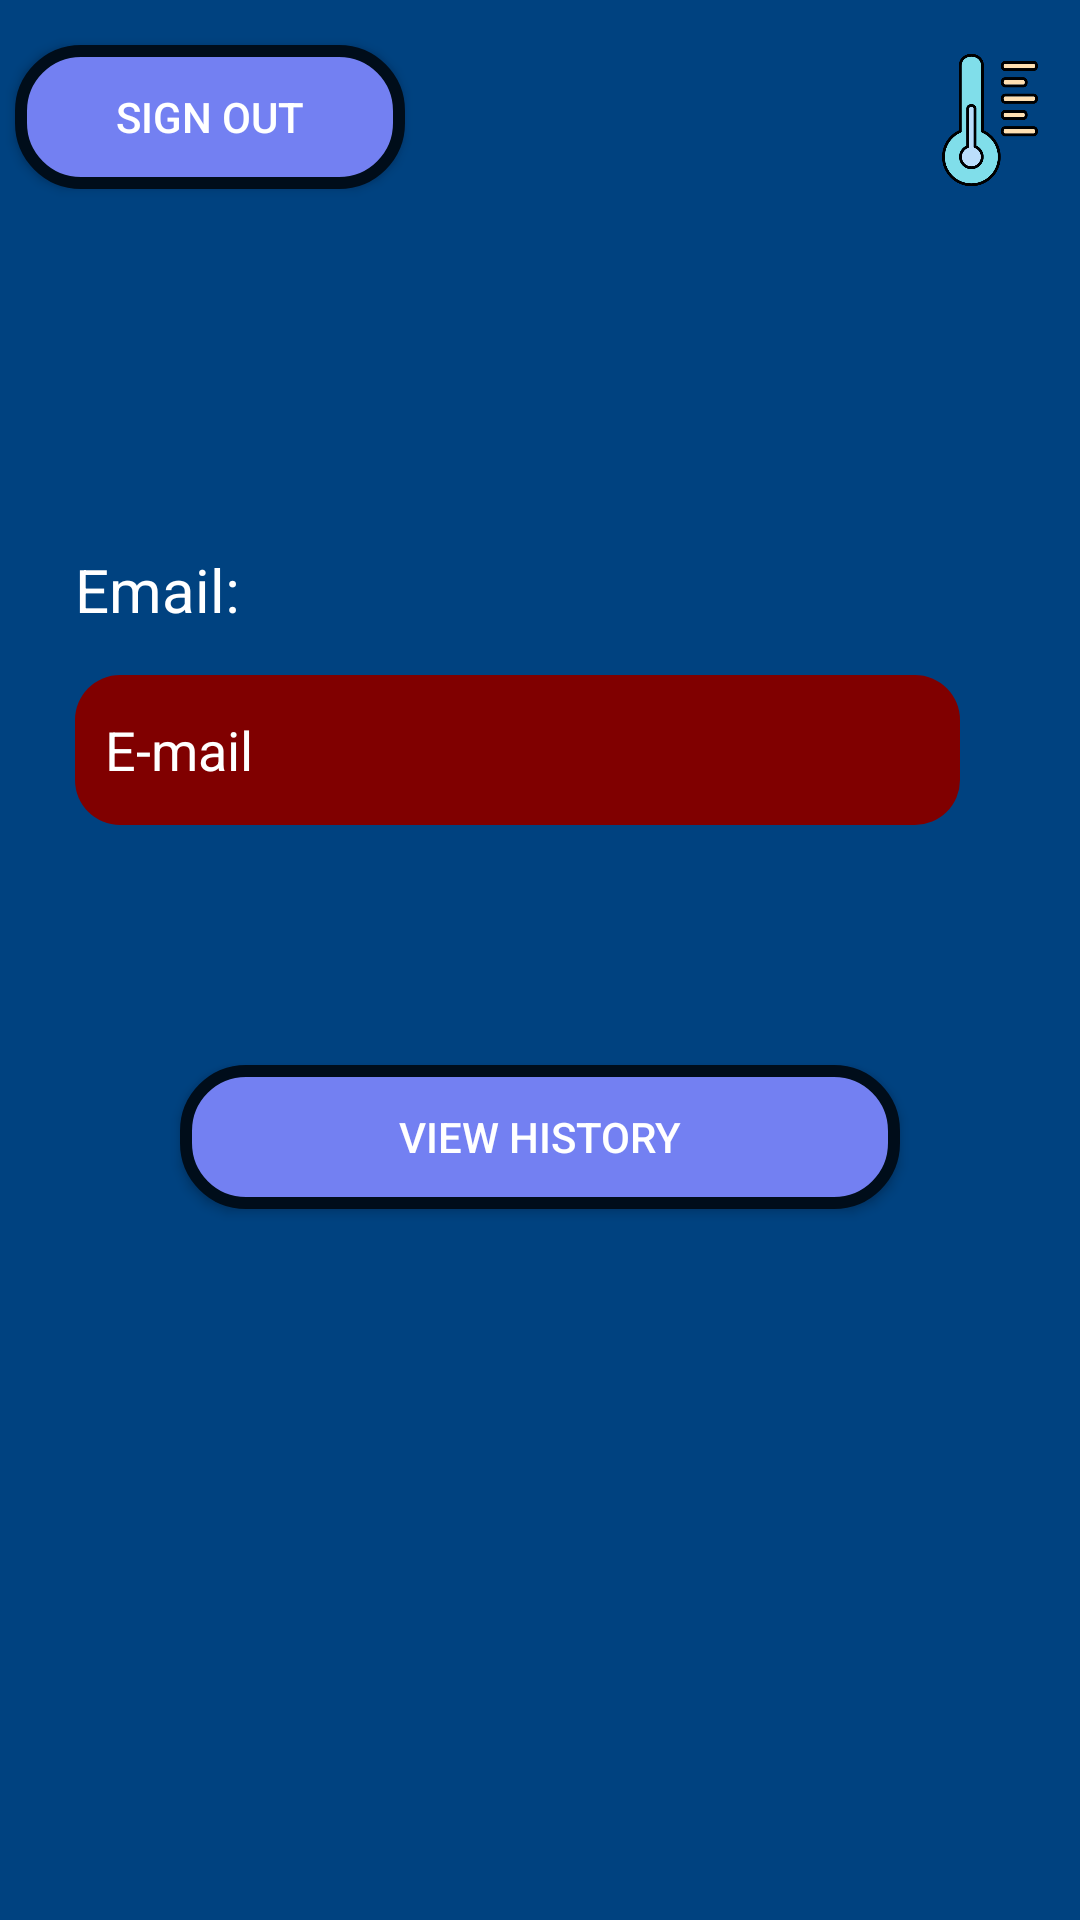

Icon click points for this 1080 x 1920 phone screenshot, format (x,y):
thermometer: (990,120)
